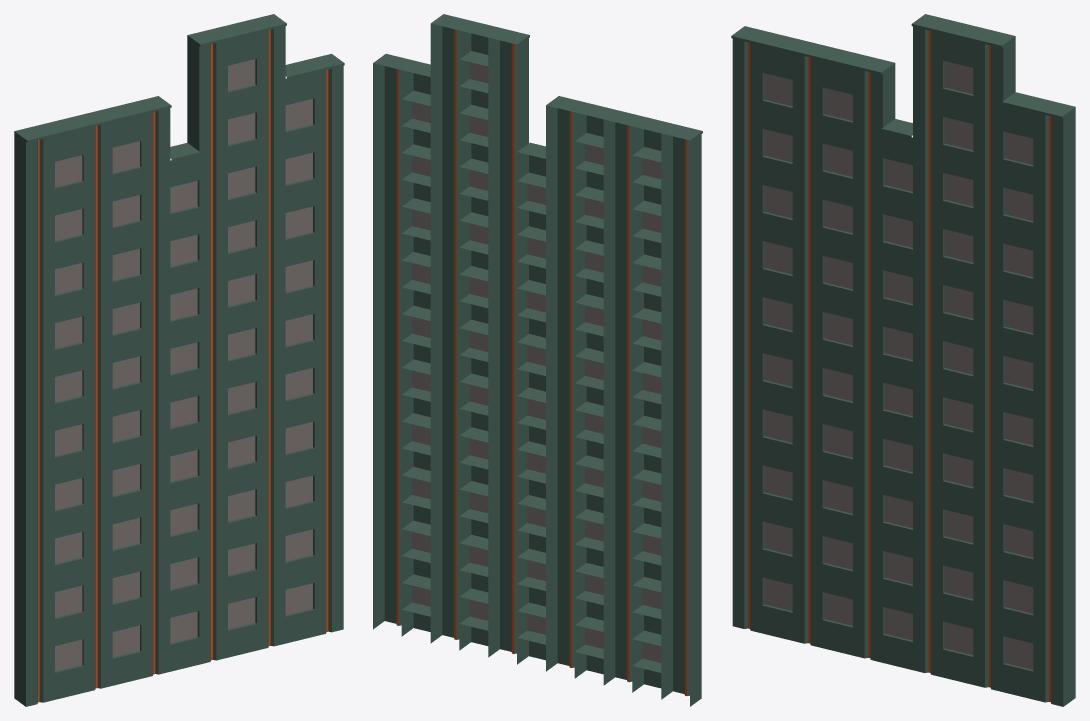
The picture shows the model from 3 angles, left to right: view 1: azimuth 30°, elevation 25°; view 2: azimuth 150°, elevation 25°; view 3: azimuth 330°, elevation 25°; orthographic projection. The views are drawn at different scales.
Visible parts, largest first — view 1: Edificio.003; view 2: Edificio.003; view 3: Edificio.003.
Part boxes in pixels (bbox=[...]): Edificio.003: bbox=[14, 14, 344, 706]; Edificio.003: bbox=[373, 14, 702, 706]; Edificio.003: bbox=[731, 14, 1075, 706].
Bounding box in the file's own units: 3063 × 5726 × 217.
